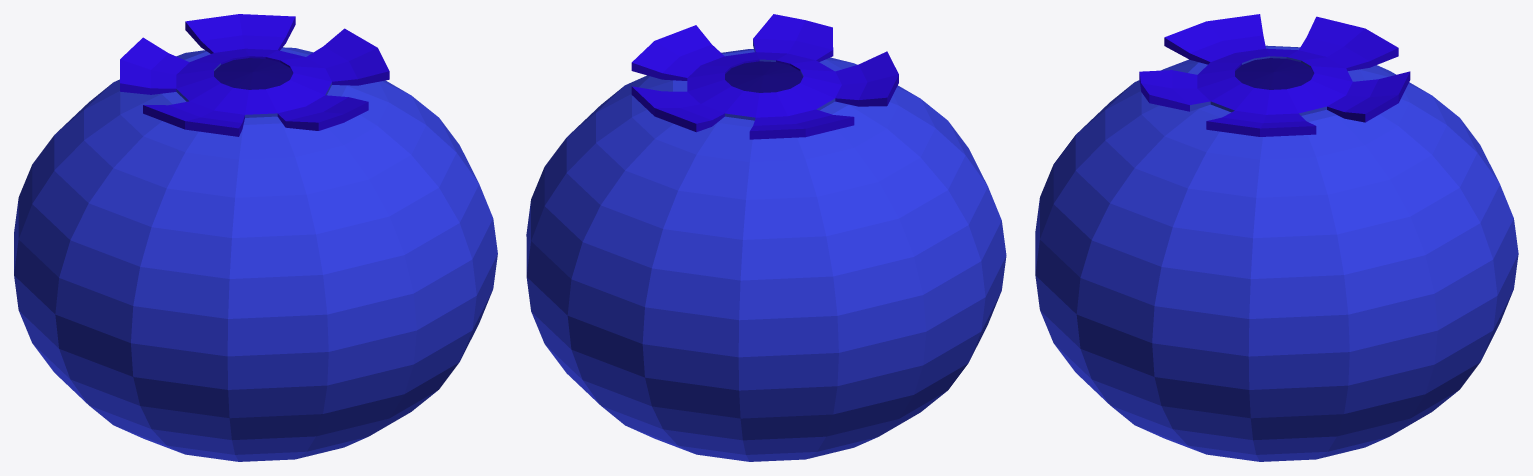
The model's file is arandano.glb.
The picture shows the model from 3 angles, left to right: view 1: azimuth 30°, elevation 25°; view 2: azimuth 150°, elevation 25°; view 3: azimuth 270°, elevation 25°; orthographic projection.
Parts seen in each view (by area): view 1: Sphere; view 2: Sphere; view 3: Sphere.
Part boxes in pixels (x1,y1,x2,y2): Sphere: (14, 14, 497, 461); Sphere: (526, 14, 1006, 461); Sphere: (1035, 14, 1518, 461).
Bounding box in the file's own units: 2.32 × 1.82 × 2.3.
